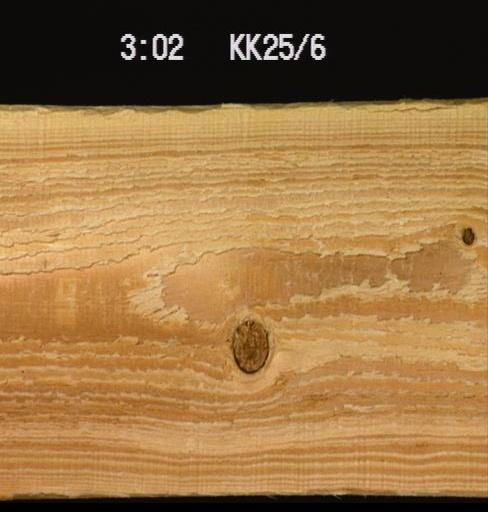dry_knot: (228, 314, 270, 374), (458, 222, 475, 247)
split: (365, 103, 461, 120)
wave: (0, 101, 323, 116), (307, 485, 485, 498)
